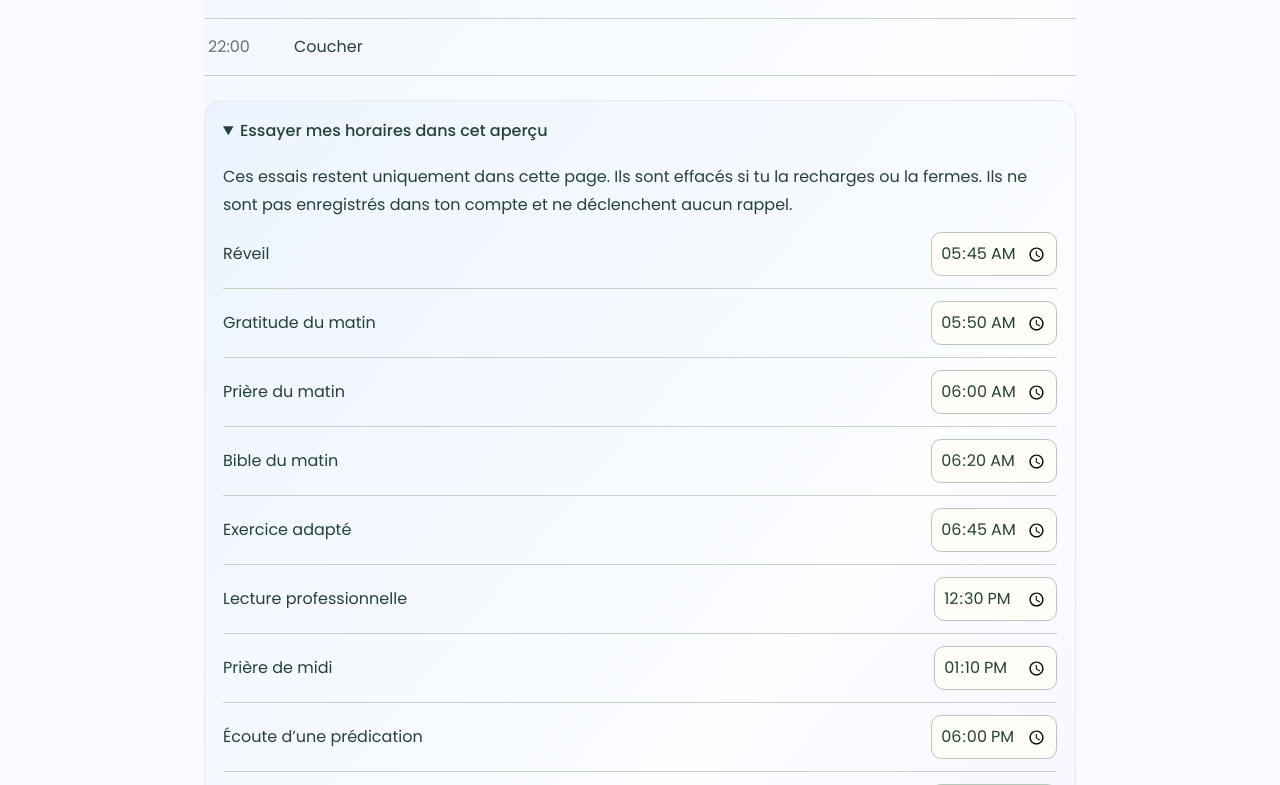
Test: signale les heures identiques et peut rétablir toutes les propositions
This screenshot has width=1280, height=785.
(page scrolled)
Replace the text in the time field labelled "Prière du matin" with "06:20" at (994, 392), box [931,370,1057,414]
(page scrolled)
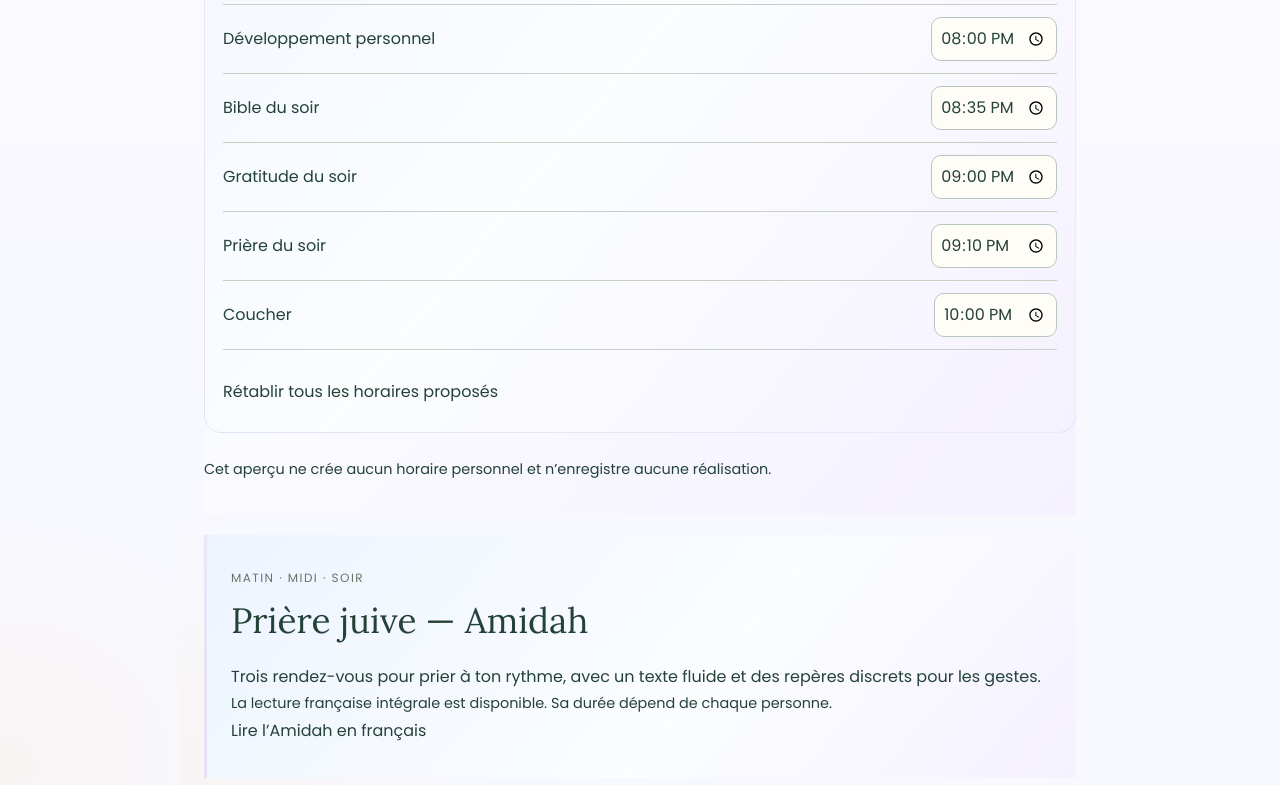
Click the button "Rétablir tous les horaires proposés" at (360, 392), box [223,370,498,414]
(page scrolled)
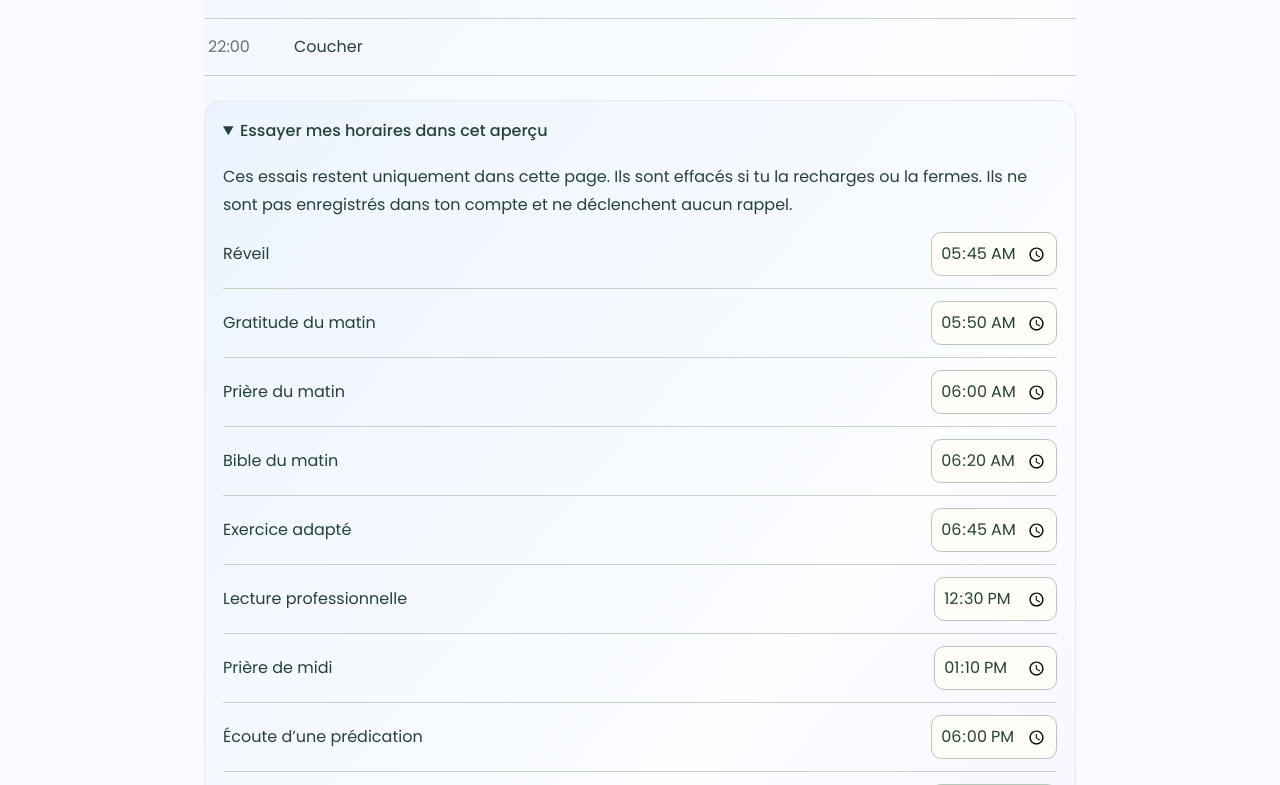
Now the time field labelled "Prière du matin" holds "06:00", box [931,370,1057,414]
